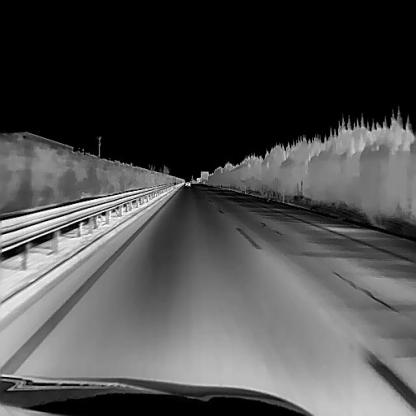car: (184, 178, 190, 185)
